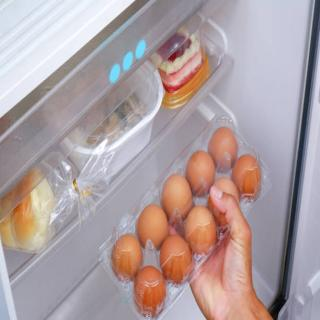Milk: (106, 194, 204, 317)
